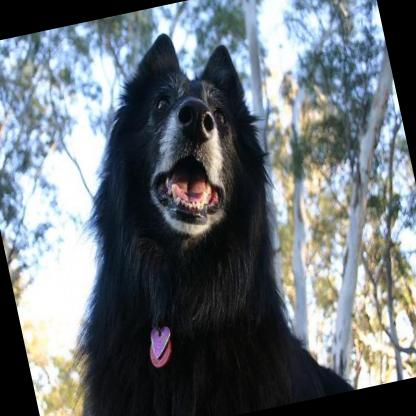groenendael: (0, 6, 355, 416)
